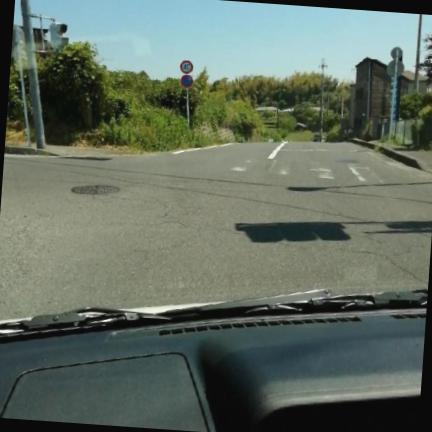Road: (0, 143, 431, 319)
